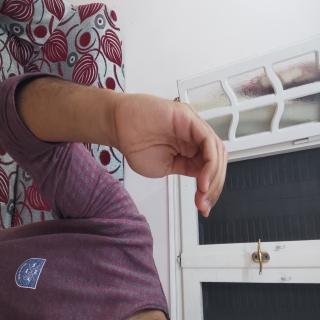HAA: (61, 118, 170, 280)
